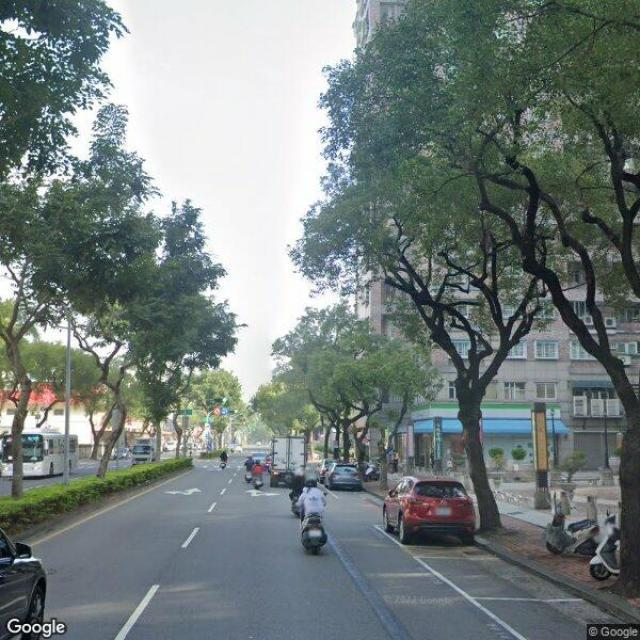Legalparking: (365, 470, 493, 559), (317, 444, 373, 502)
illegalparking: (546, 474, 640, 602)
